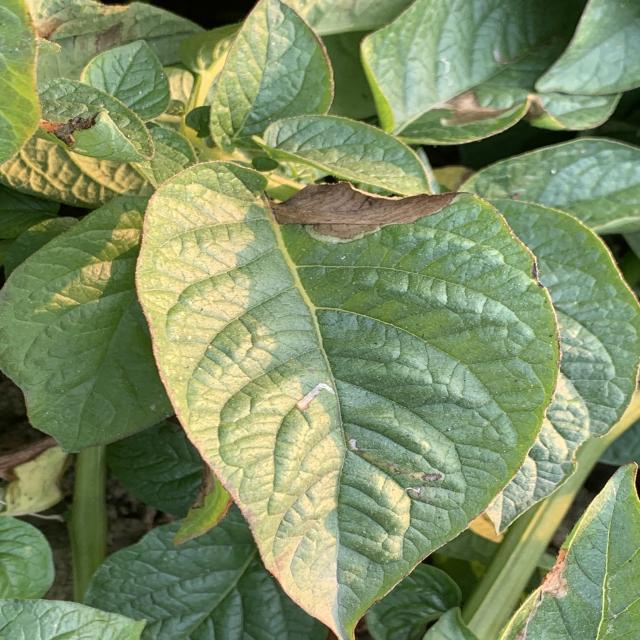lateblight: (272, 181, 458, 239)
